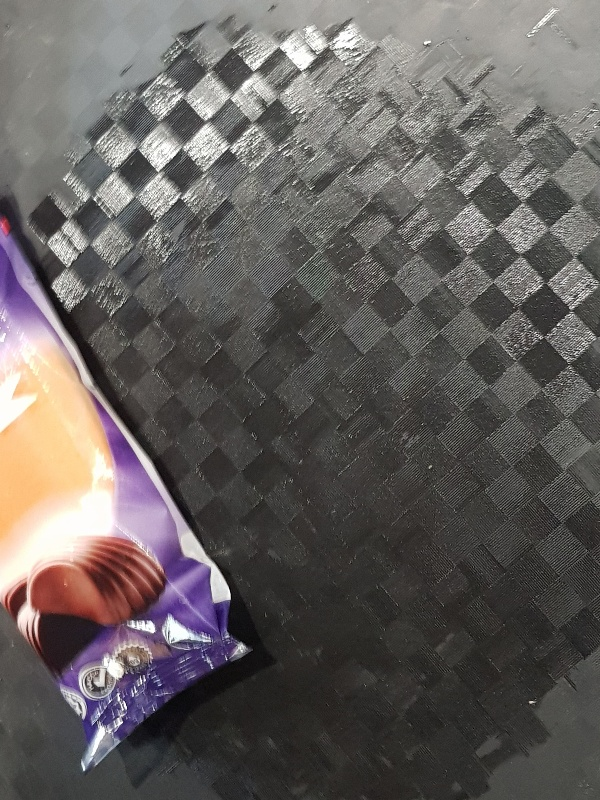Tinges Roll Chocolate: (1, 192, 252, 774)
